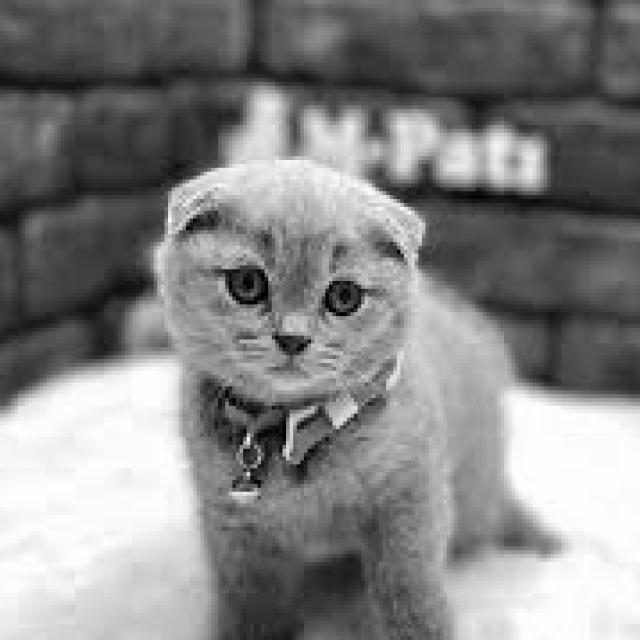scootish: (142, 164, 434, 408)
